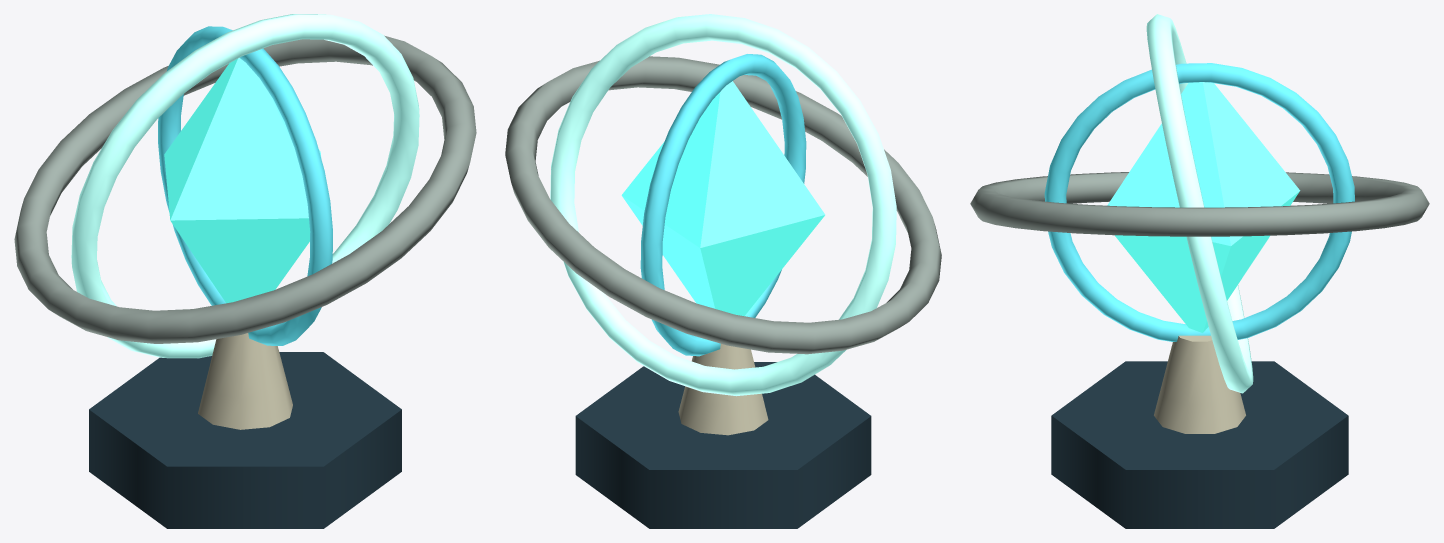
Rendered from harmonic-core.glb.
3 renders of one model, left to right at view 1: azimuth 30°, elevation 25°; view 2: azimuth 150°, elevation 25°; view 3: azimuth 270°, elevation 25°, orthographic. The views are drawn at different scales.
Parts seen in each view (by area): view 1: Vesper / harmonic-core; view 2: Vesper / harmonic-core; view 3: Vesper / harmonic-core.
Boxes of the visible parts, bbox=[...] form: Vesper / harmonic-core: bbox=[14, 14, 476, 528]; Vesper / harmonic-core: bbox=[505, 14, 941, 528]; Vesper / harmonic-core: bbox=[970, 14, 1429, 528].
Bounding box in the file's own units: 2.38 × 2.7 × 2.54.
